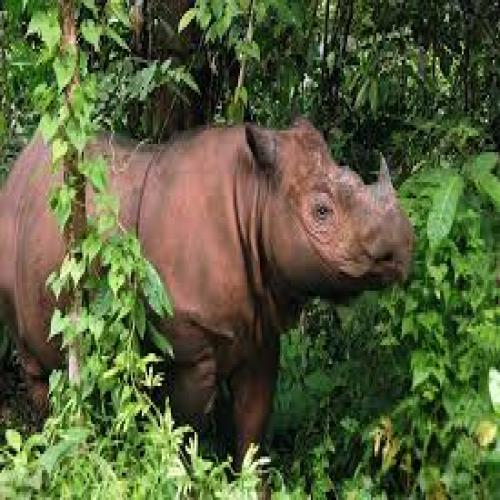rhino-endangered: (0, 117, 414, 494)
